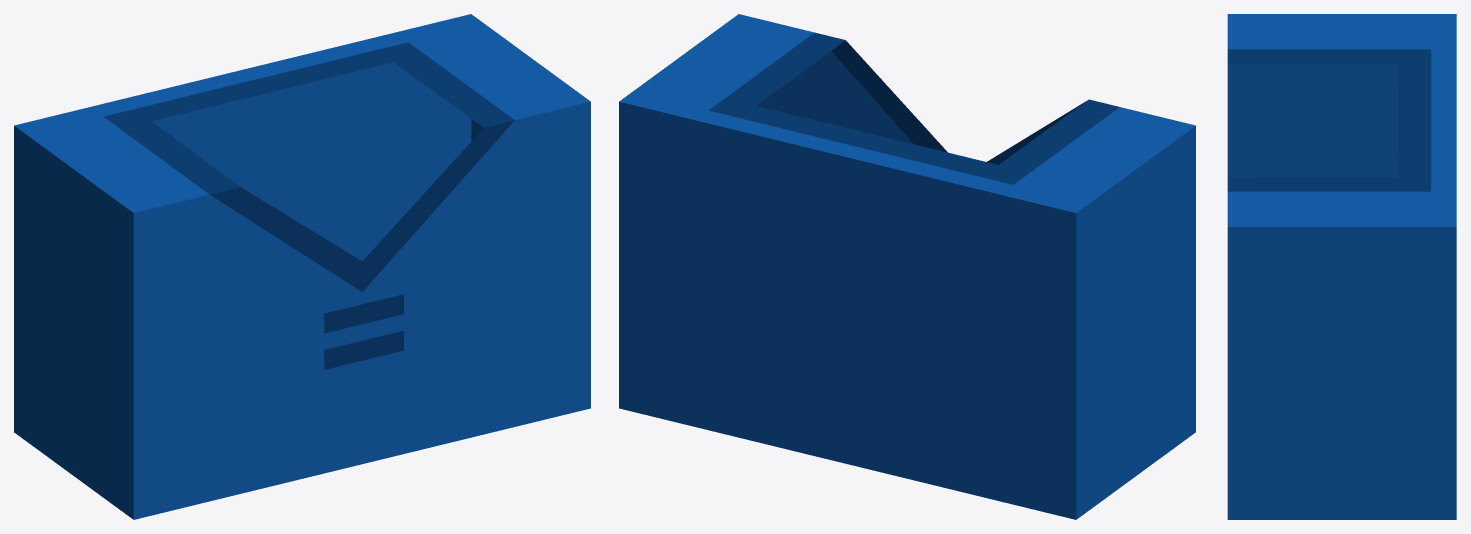
File: Vest 01.FBX
3 views of the same model, side by side, from view 1: azimuth 30°, elevation 25°; view 2: azimuth 150°, elevation 25°; view 3: azimuth 270°, elevation 25° (orthographic). The views are drawn at different scales.
Parts seen in each view (by area): view 1: Vest 01; view 2: Vest 01; view 3: Vest 01.
Boxes of the visible parts, x1=… form: Vest 01: x1=14, y1=14, x2=590, y2=519; Vest 01: x1=619, y1=14, x2=1195, y2=519; Vest 01: x1=1227, y1=14, x2=1456, y2=519.
Bounding box in the file's own units: 48.43 × 31.05 × 22.3.
1 material, 1 textured.
